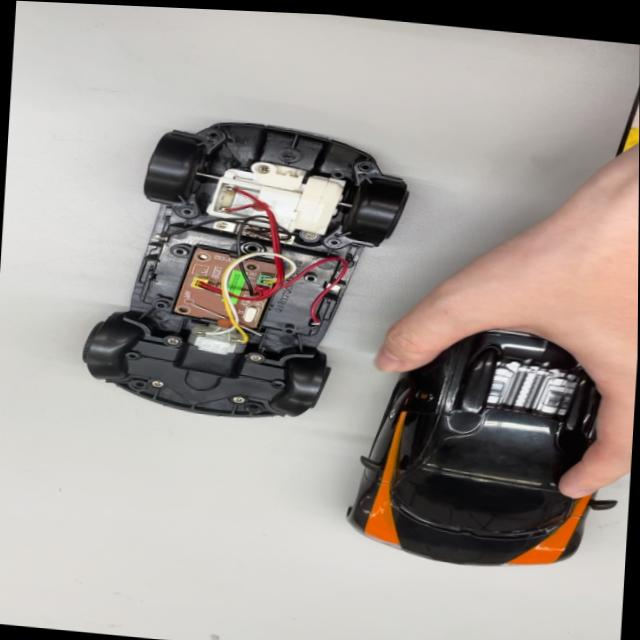Chassis: (73, 110, 403, 431)
vehicle_body: (336, 296, 620, 577)
